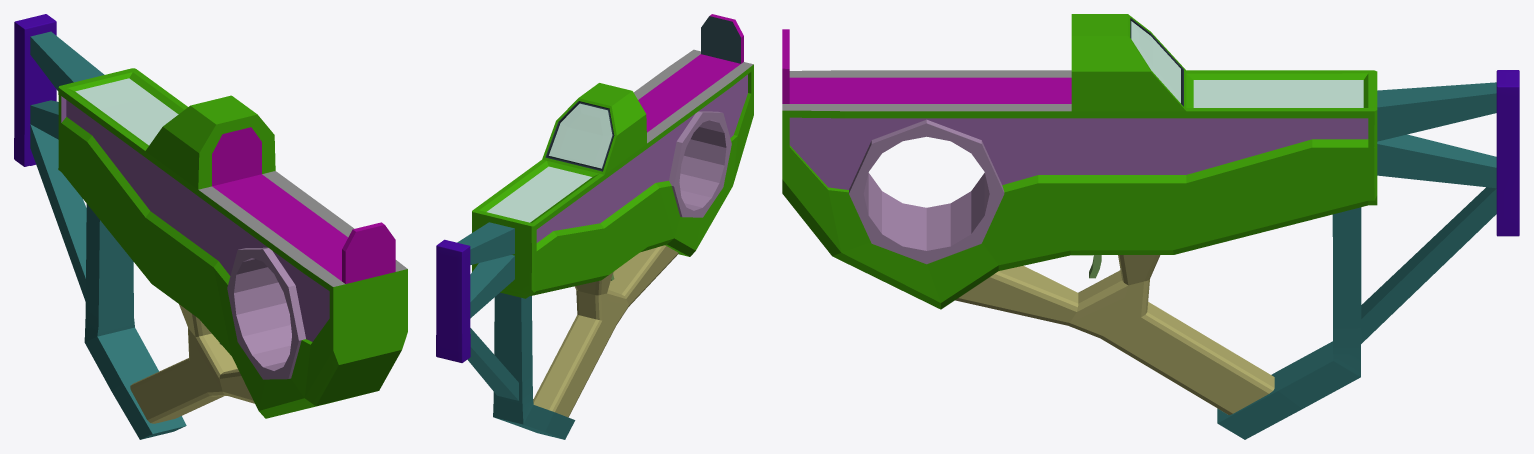
Rendered from rifleStockNew.fbx.
3 views of the same model, side by side, from view 1: azimuth 30°, elevation 25°; view 2: azimuth 150°, elevation 25°; view 3: azimuth 270°, elevation 25° (orthographic). The views are drawn at different scales.
Visible parts, largest first — view 1: stock2; view 2: stock2; view 3: stock2.
Part boxes in pixels (<box>): stock2: <box>14,14,407,439</box>; stock2: <box>436,14,753,439</box>; stock2: <box>782,14,1519,439</box>.
Bounding box in the file's own units: 0.4566 × 2 × 3.3.
